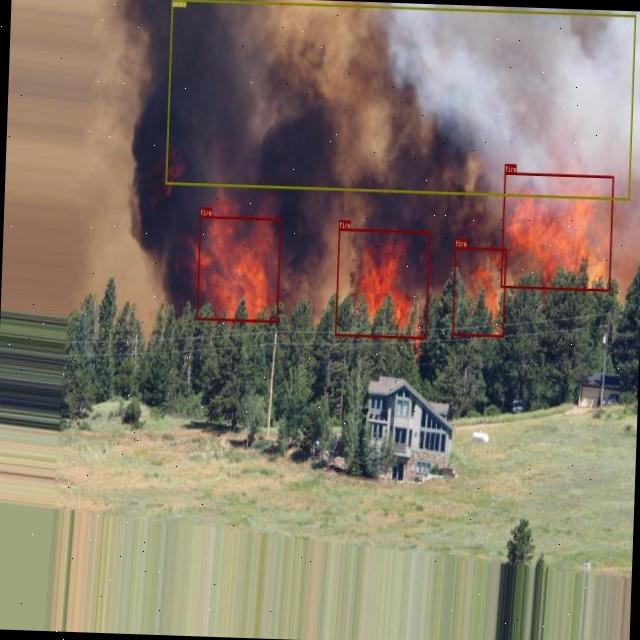fire: (500, 171, 613, 291), (334, 228, 430, 338), (196, 215, 281, 322), (452, 246, 506, 338)
smoke: (165, 0, 636, 199)
